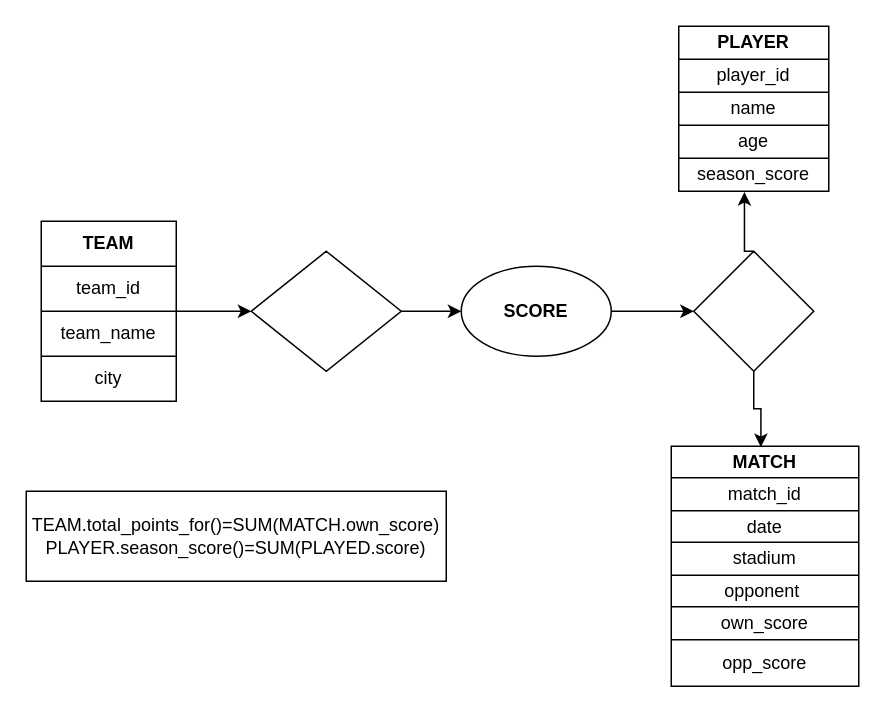
This 885x713 diagram has some shape labels left out. Each missing label, with the box of its shape:
PLAYED: (692, 250, 814, 371)
ROSTER_ON: (250, 250, 401, 371)
